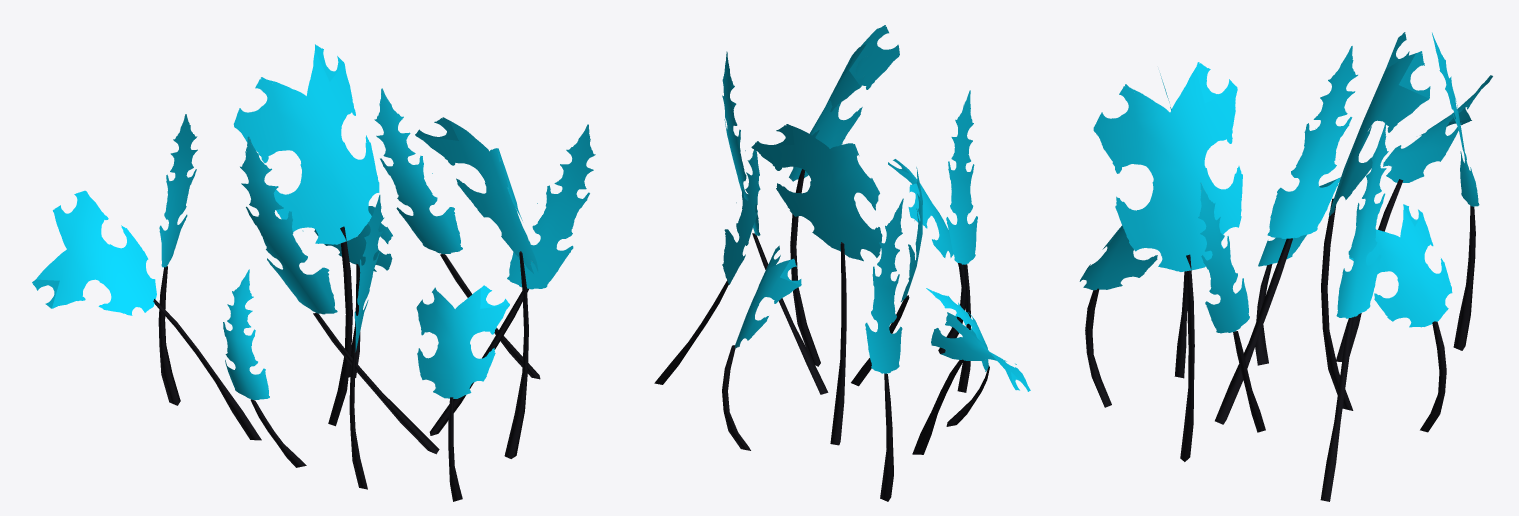
The model's file is MSH_PlantaAzul002.fbx.
3 renders of one model, left to right at view 1: azimuth 30°, elevation 25°; view 2: azimuth 150°, elevation 25°; view 3: azimuth 270°, elevation 25°, orthographic. The views are drawn at different scales.
Visible parts, largest first — view 1: MHS_PlantaAzul002; view 2: MHS_PlantaAzul002; view 3: MHS_PlantaAzul002.
Boxes of the visible parts, <box> form: MHS_PlantaAzul002: <box>32,44,595,501</box>; MHS_PlantaAzul002: <box>654,25,1030,501</box>; MHS_PlantaAzul002: <box>1079,32,1492,501</box>.
Bounding box in the file's own units: 203 × 150 × 161.
3 materials, 2 textured.
